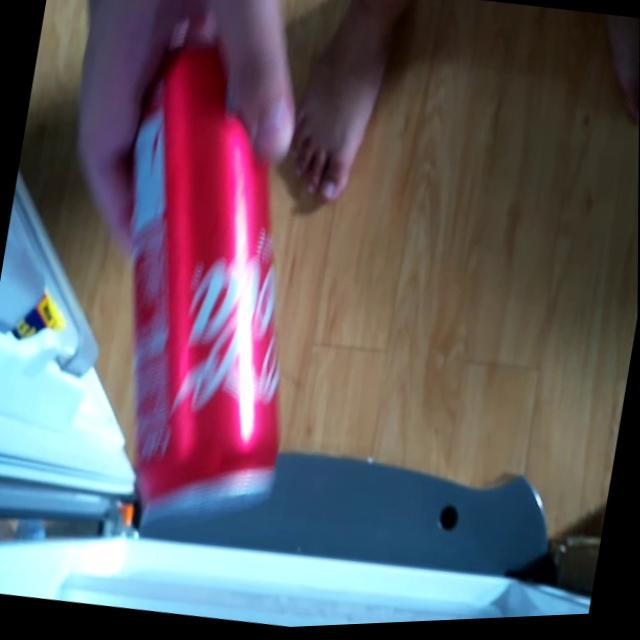coke: (82, 27, 353, 537)
